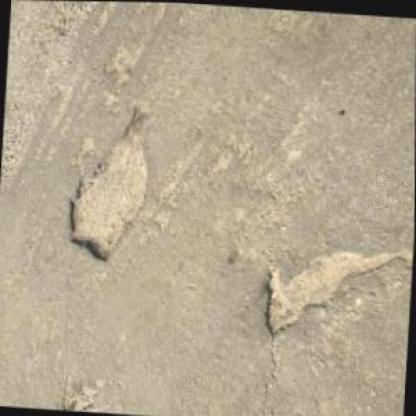pothole: (261, 233, 413, 341), (62, 96, 157, 266)
